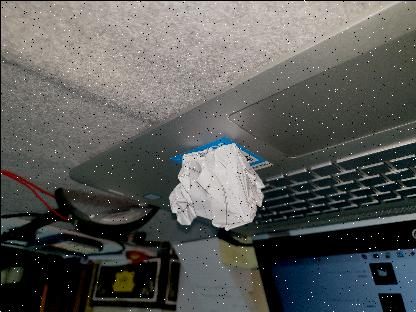Others: (164, 136, 266, 232)
